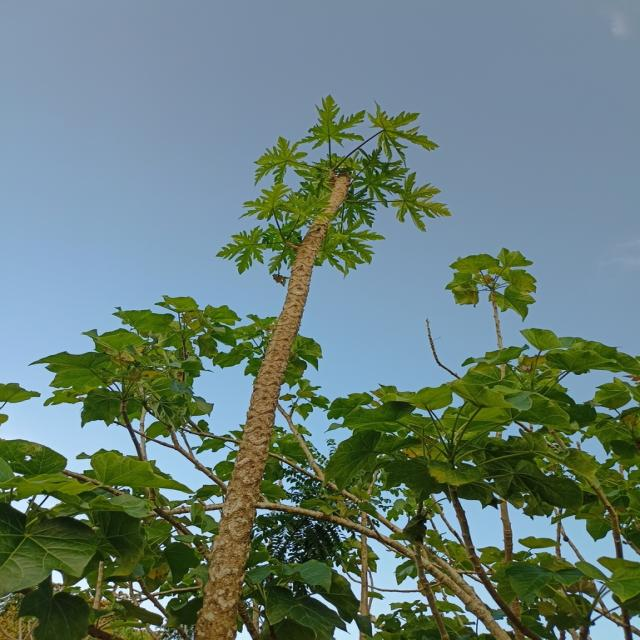Papaya-Tree: (212, 65, 442, 510)
